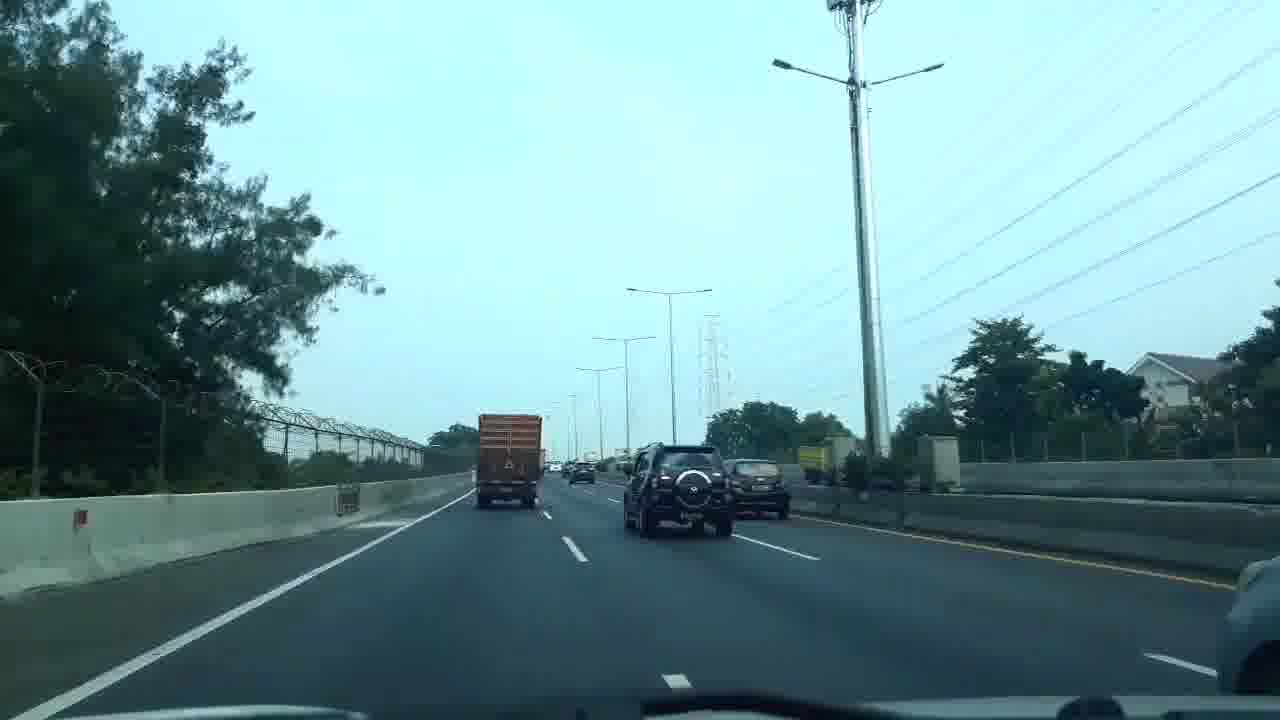plate_positive: (751, 484, 773, 491)
